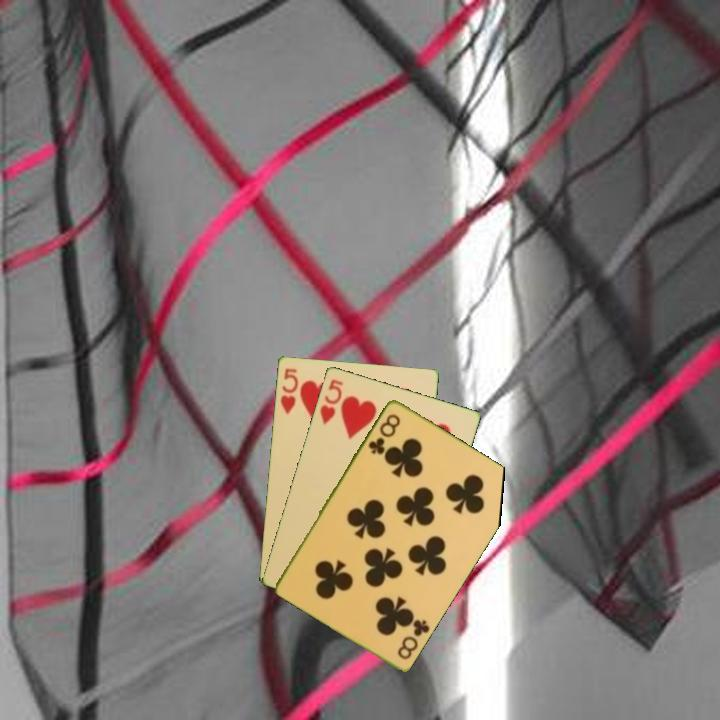5h: (316, 376, 346, 427), (277, 365, 301, 417)
8c: (364, 410, 403, 457), (394, 615, 433, 662)
